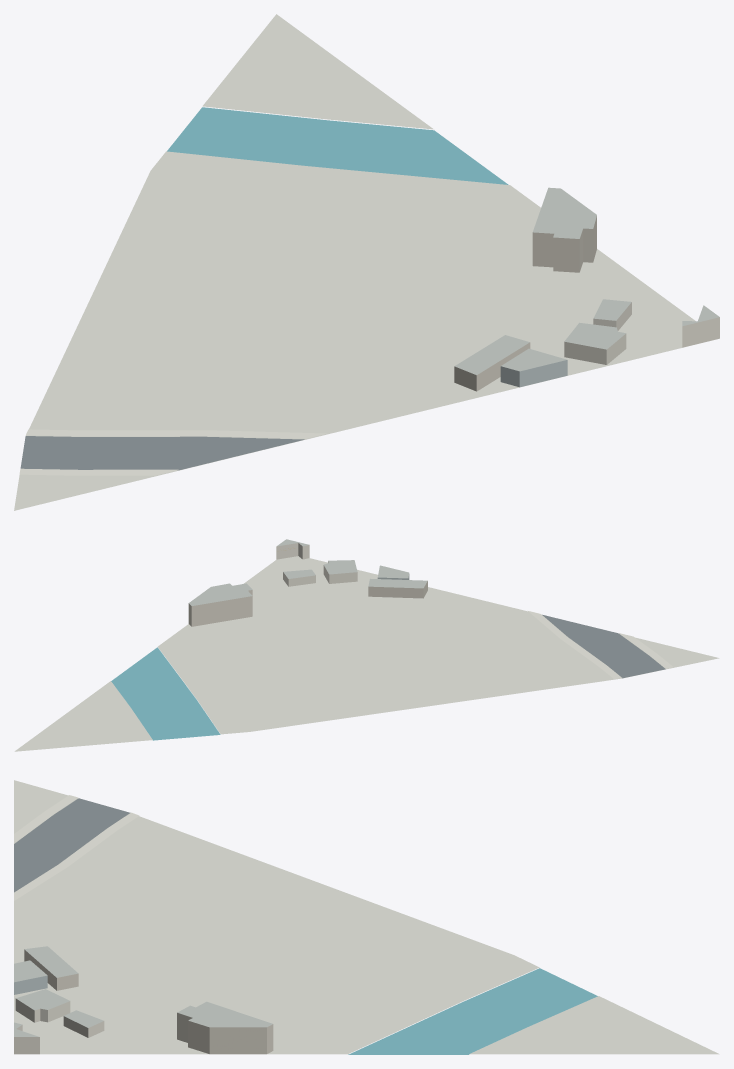
3 renders of one model, top to bottom at view 1: azimuth 30°, elevation 25°; view 2: azimuth 150°, elevation 25°; view 3: azimuth 270°, elevation 25°, orthographic. The views are drawn at different scales.
Parts seen in each view (by area): view 1: city; view 2: city; view 3: city.
Boxes of the visible parts, box(x1,y1,x2,y2) form: city: box(14, 14, 719, 510); city: box(14, 539, 719, 751); city: box(14, 780, 719, 1054).
Bounding box in the file's own units: 175 × 8.18 × 190.
